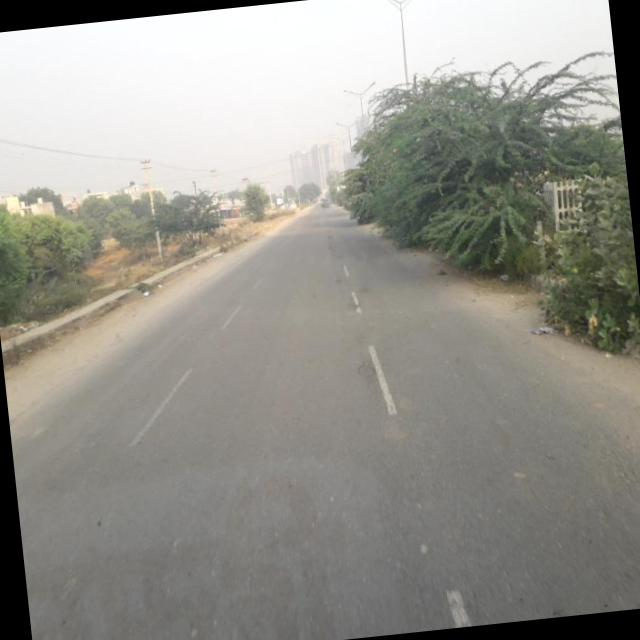pothole: (348, 351, 396, 401)
